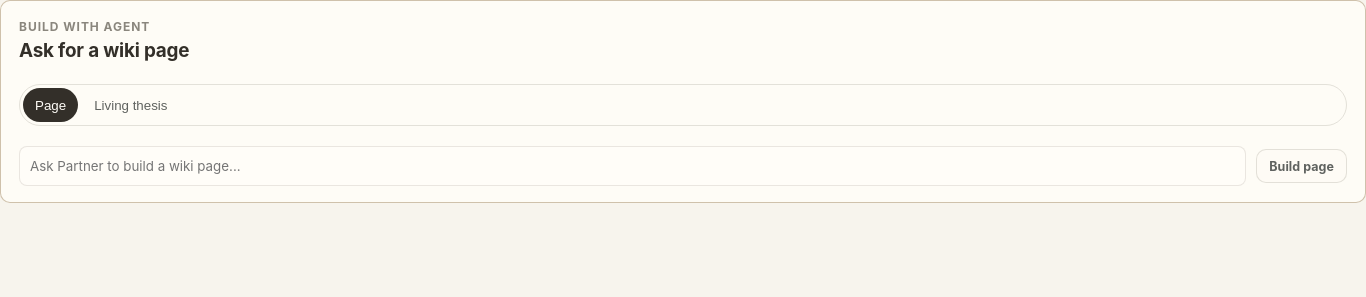
WikiBuildPageComposer › surfaces a build failure without navigating
This screenshot has width=1366, height=297.
In the field named "Wiki page to build": (633, 166) [19,146,1246,186], type "Broken page"
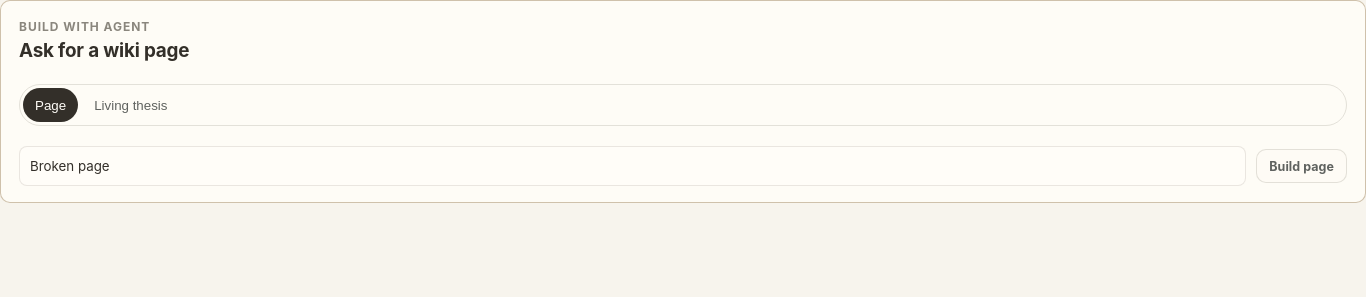
Click the button "Build page": (1302, 166) [1256,149,1347,183]
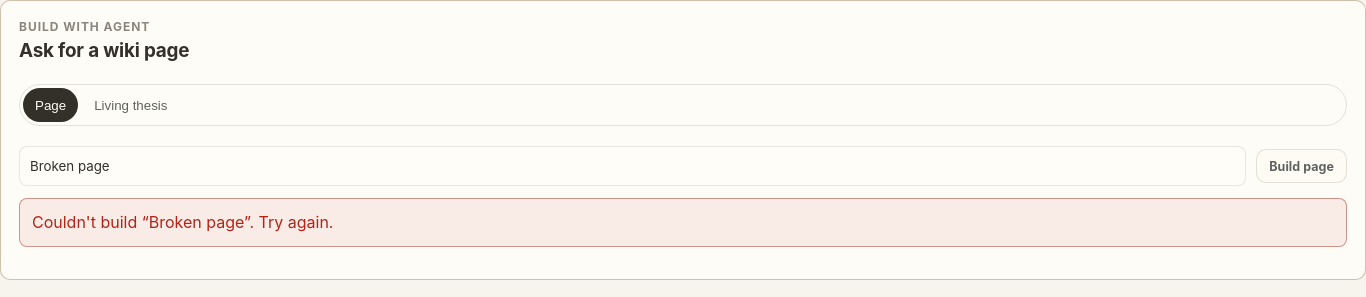
expect the message reads "Couldn't build “Broken page”. Try again.": met, box [32,212,333,232]
